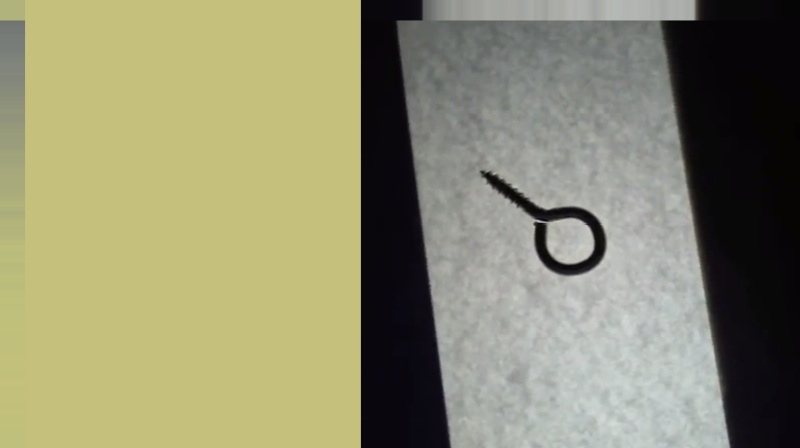O001: (474, 166, 609, 278)
